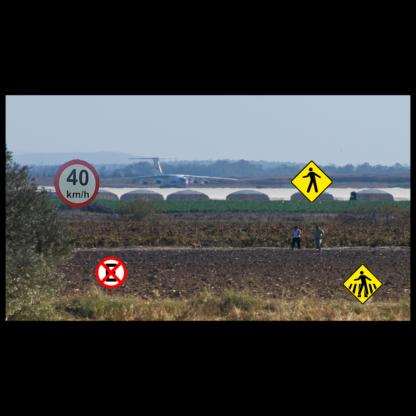A-32a: (290, 160, 333, 203)
A-32b: (342, 263, 383, 305)
R-19: (54, 159, 100, 207)
R-6c: (95, 257, 127, 289)
